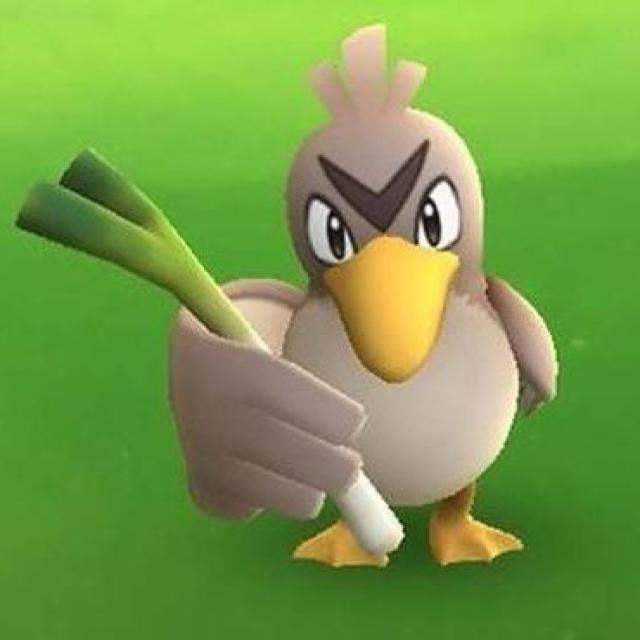Farfetchd: (163, 39, 545, 568)
